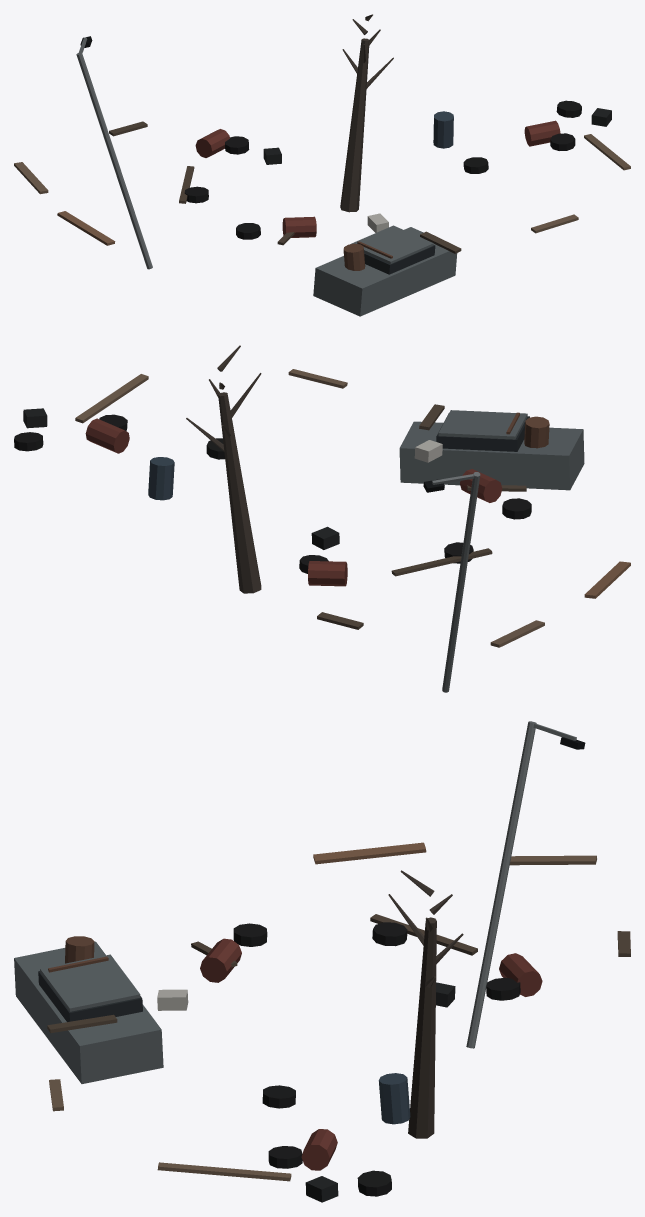
File: prop_flood_debris_b.glb
3 renders of one model, top to bottom at view 1: azimuth 30°, elevation 25°; view 2: azimuth 150°, elevation 25°; view 3: azimuth 270°, elevation 25°, orthographic. The views are drawn at different scales.
Visible parts, largest first — view 1: prop_flood_debris_b; view 2: prop_flood_debris_b; view 3: prop_flood_debris_b.
Boxes of the visible parts, <box> form: prop_flood_debris_b: <box>14,14,630,316</box>; prop_flood_debris_b: <box>14,345,630,692</box>; prop_flood_debris_b: <box>14,721,630,1202</box>.
Bounding box in the file's own units: 17.27 × 7.15 × 12.81.
